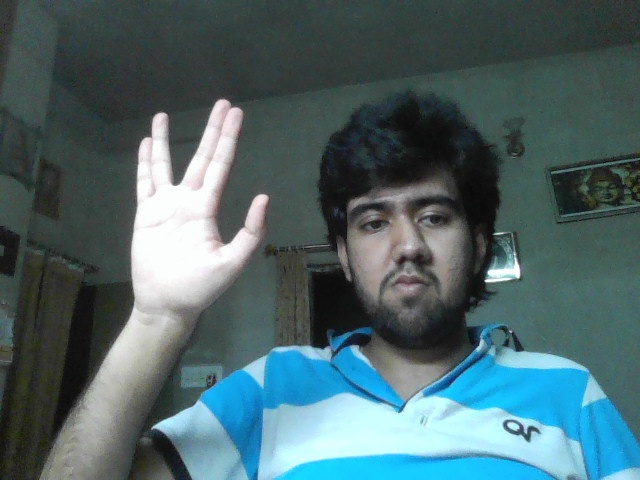LiveLong: (130, 98, 269, 309)
